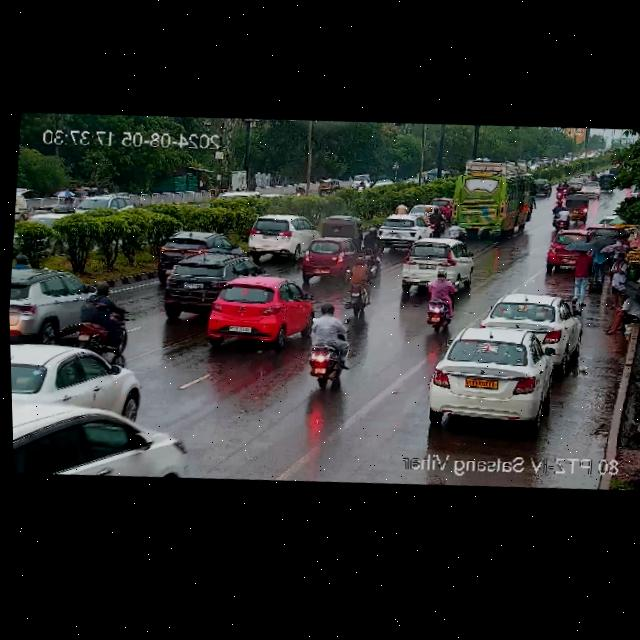bus: (439, 153, 539, 244)
car: (12, 385, 191, 487), (425, 318, 557, 431), (10, 330, 159, 428), (202, 265, 315, 358), (9, 261, 121, 352), (155, 245, 254, 328), (479, 286, 583, 361), (388, 236, 474, 298), (153, 221, 229, 277), (247, 211, 320, 259), (293, 231, 359, 284), (544, 226, 589, 275), (375, 209, 431, 247), (76, 187, 135, 218), (318, 213, 359, 241), (565, 191, 591, 224), (426, 195, 452, 221), (585, 221, 619, 240), (580, 178, 602, 199), (315, 177, 339, 196), (408, 201, 436, 216), (535, 178, 551, 196), (568, 176, 583, 192), (578, 172, 590, 181)
motorcycle: (71, 276, 138, 357), (304, 297, 354, 391), (421, 265, 460, 335), (342, 255, 375, 314), (357, 224, 388, 270), (549, 199, 571, 231), (424, 204, 443, 235), (446, 219, 465, 244), (554, 180, 570, 201), (394, 197, 408, 214)
person: (599, 281, 640, 339), (568, 245, 594, 305), (605, 250, 628, 308), (590, 234, 610, 285)
